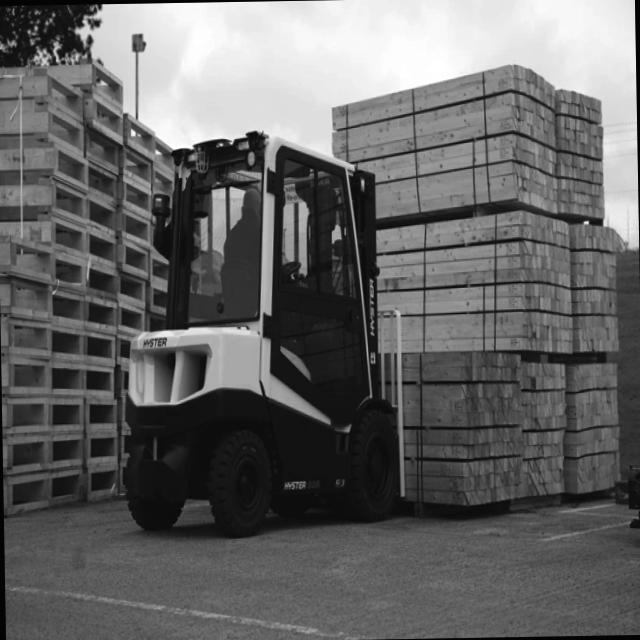driver: (220, 185, 280, 302)
forklift: (102, 132, 428, 545)
